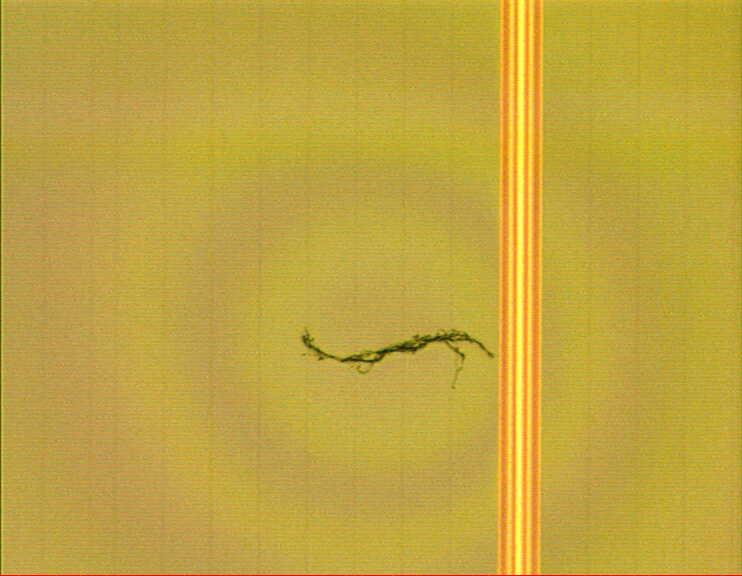PIQ PARTICLE: (295, 325, 496, 397)
